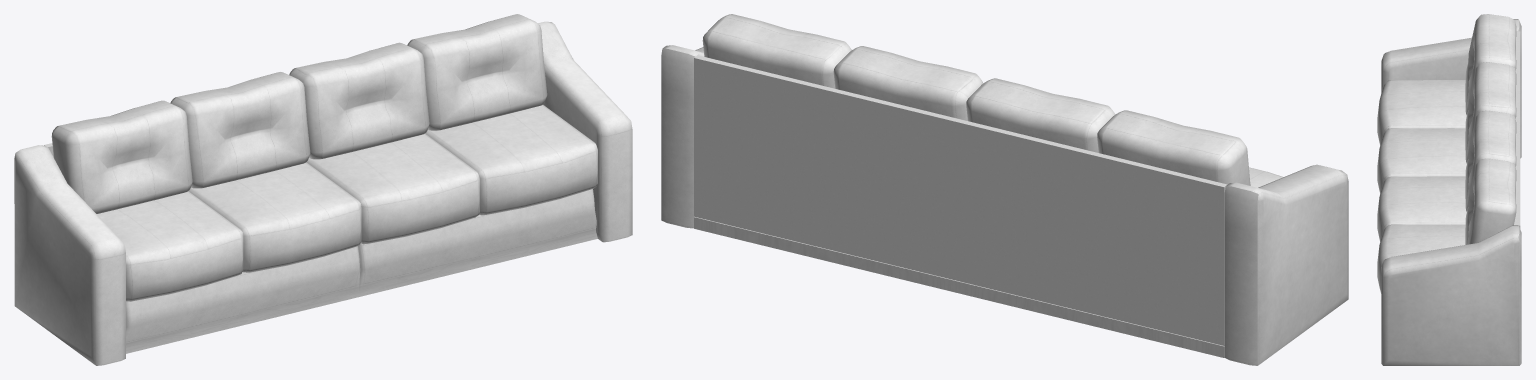
File: Sofa06_2.FBX
The picture shows the model from 3 angles, left to right: view 1: azimuth 30°, elevation 25°; view 2: azimuth 150°, elevation 25°; view 3: azimuth 270°, elevation 25°; orthographic projection. The views are drawn at different scales.
Parts seen in each view (by area): view 1: Sofa06_2; view 2: Sofa06_2; view 3: Sofa06_2.
Part boxes in pixels (x1=…): Sofa06_2: x1=14, y1=14, x2=632, y2=365; Sofa06_2: x1=661, y1=14, x2=1348, y2=365; Sofa06_2: x1=1377, y1=14, x2=1521, y2=365.
Bounding box in the file's own units: 333 × 106 × 92.21.
